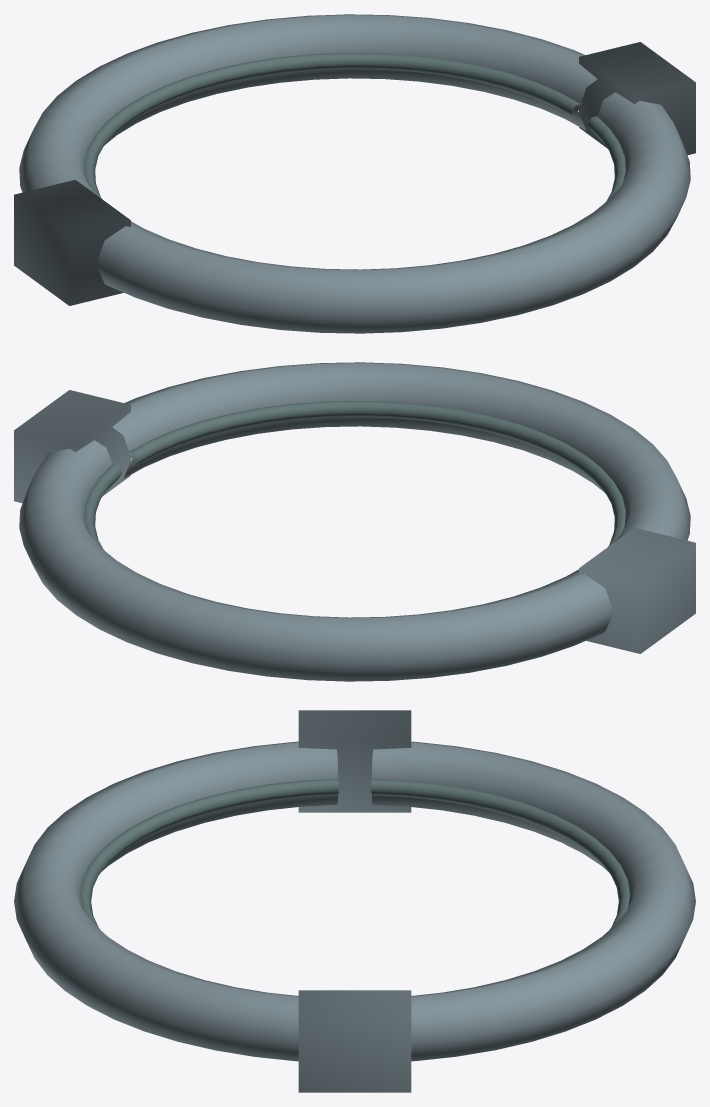
Rendered from clamp_closed.glb.
3 views of the same model, one above another, from view 1: azimuth 30°, elevation 25°; view 2: azimuth 150°, elevation 25°; view 3: azimuth 270°, elevation 25° (orthographic).
Visible parts, largest first — view 1: JawA, JawB, JawBLiner, ThumbWingA2, ThumbWingB1, ThumbWingA1, ThumbWingB2, JawALiner; view 2: JawB, JawA, JawALiner, ThumbWingB1, ThumbWingA2, ThumbWingB2, ThumbWingA1, JawBLiner; view 3: JawA, JawB, ThumbWingA1, ThumbWingB2, ThumbWingA2, JawALiner, JawBLiner, ThumbWingB1.
Boxes of the visible parts, left/top/right/bottom form: JawA: left=96, top=92, right=690, bottom=333; JawB: left=19, top=14, right=597, bottom=194; JawBLiner: left=84, top=53, right=581, bottom=198; ThumbWingA2: left=34, top=194, right=130, bottom=305; ThumbWingB1: left=14, top=179, right=110, bottom=291; ThumbWingA1: left=599, top=56, right=695, bottom=155; ThumbWingB2: left=579, top=42, right=674, bottom=147; JawALiner: left=588, top=116, right=625, bottom=202; JawB: left=19, top=440, right=613, bottom=681; JawA: left=112, top=362, right=690, bottom=542; JawALiner: left=128, top=401, right=625, bottom=546; ThumbWingB1: left=579, top=545, right=661, bottom=653; ThumbWingA2: left=599, top=527, right=695, bottom=639; ThumbWingB2: left=14, top=405, right=110, bottom=503; ThumbWingA1: left=34, top=390, right=130, bottom=496; JawBLiner: left=84, top=464, right=121, bottom=550; JawA: left=14, top=741, right=338, bottom=1061; JawB: left=371, top=741, right=695, bottom=1061; ThumbWingA1: left=298, top=990, right=370, bottom=1092; ThumbWingB2: left=339, top=990, right=411, bottom=1092; ThumbWingA2: left=298, top=710, right=370, bottom=812; JawALiner: left=80, top=778, right=338, bottom=929; JawBLiner: left=371, top=778, right=629, bottom=929; ThumbWingB1: left=339, top=710, right=411, bottom=812.
Bounding box in the file's own units: 0.0102 × 0.0011 × 0.00946.
